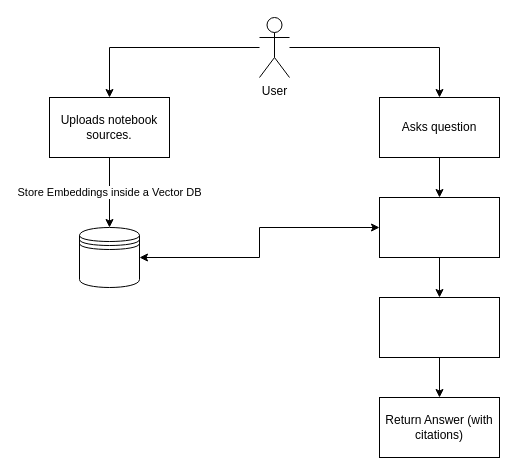
This 517x475 diagram has some shape labels left out. The shapes that lost their labels are listed below. From the top down, each one's centre as x and y in pixels, then its label:
At point 439,227: "Vector Search".
At point 439,327: "Pass question and relevant sources to LLM".
